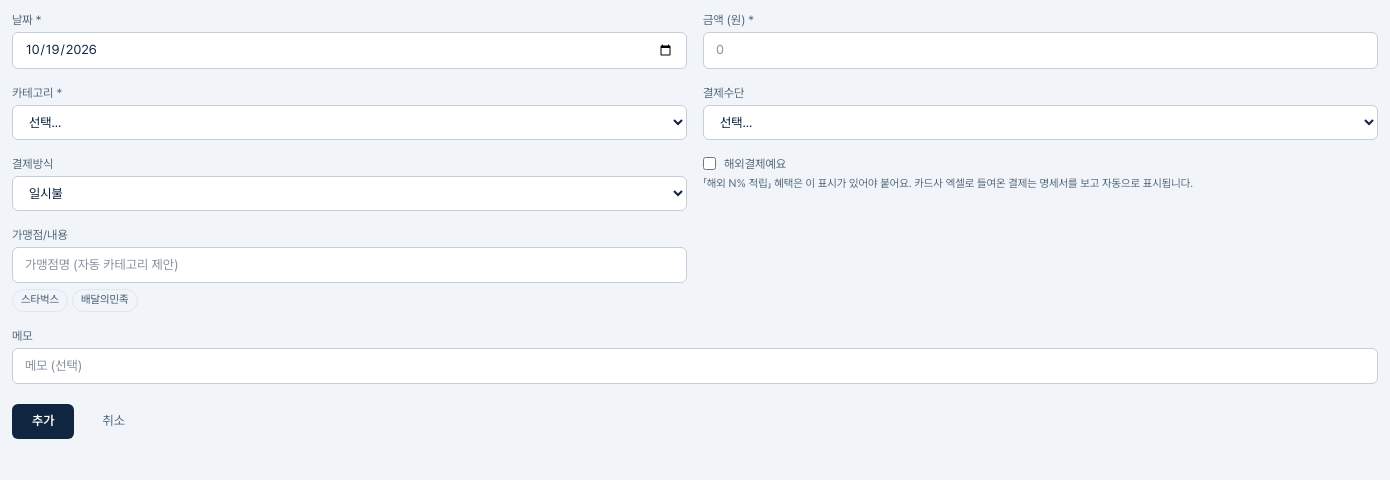
Test: TransactionForm Suggest Tests › G. 가맹점 직접 타이핑 › G-1. 가맹점을 직접 타이핑해 바꾸면 | 이전 확신도 뱃지가 사라진다
The width and height of the screenshot is (1390, 480).
Type "스타벅스" into the field labelled "가맹점/내용".
click(350, 265); type("스타벅스")  # box left=12, top=247, right=687, bottom=283
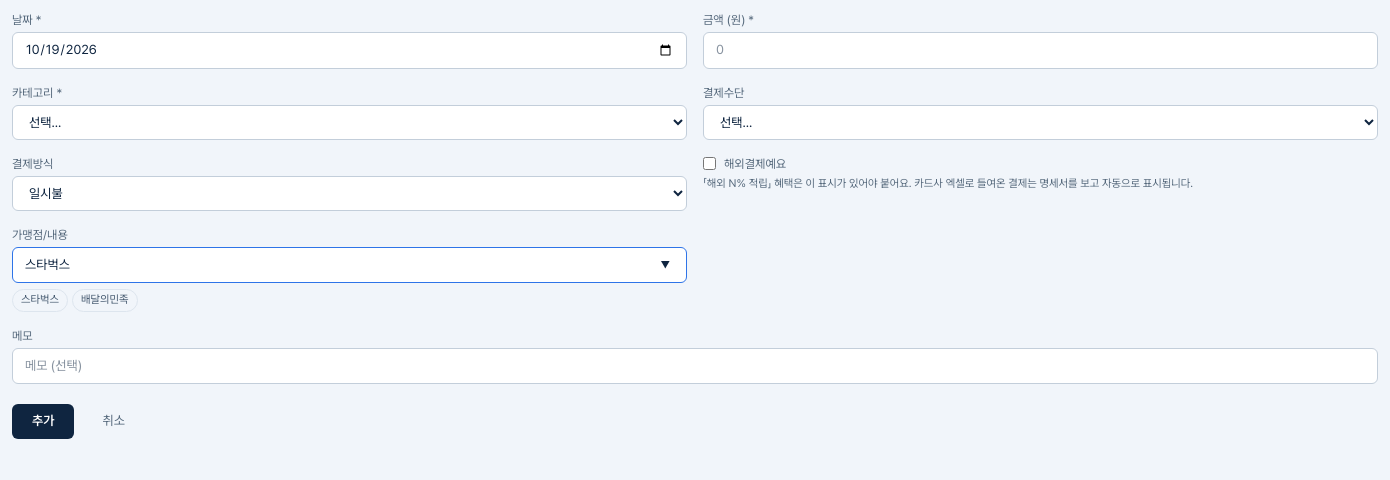
Press Tab
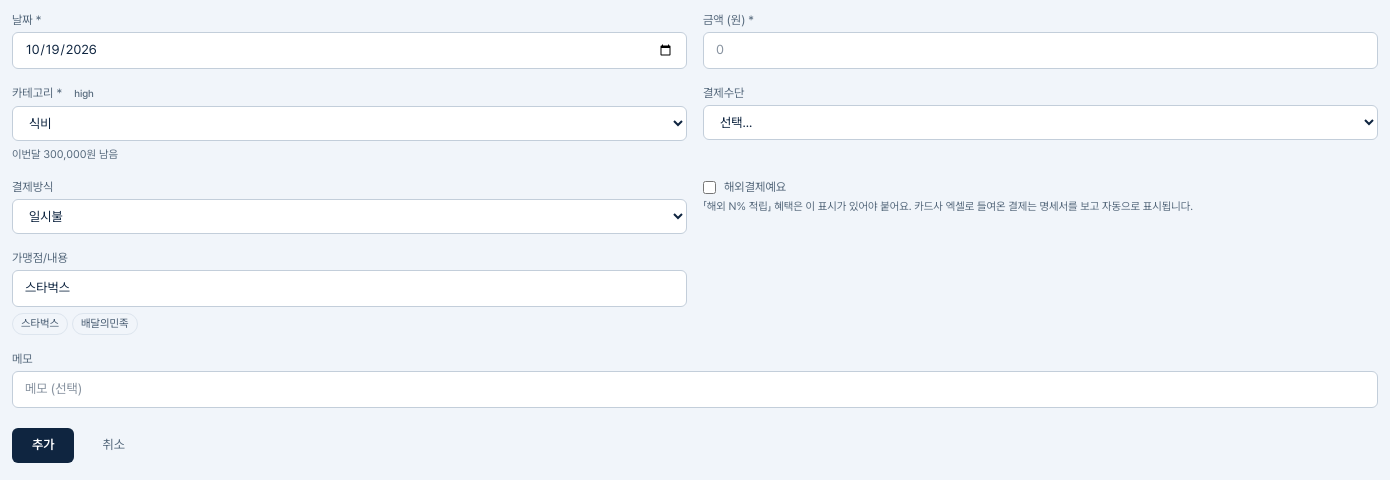
Check: the text "high" is shown, box left=74, top=87, right=94, bottom=99
Type "카페" into the field labelled "가맹점/내용".
click(350, 289); type("카페")  # box left=12, top=270, right=687, bottom=307
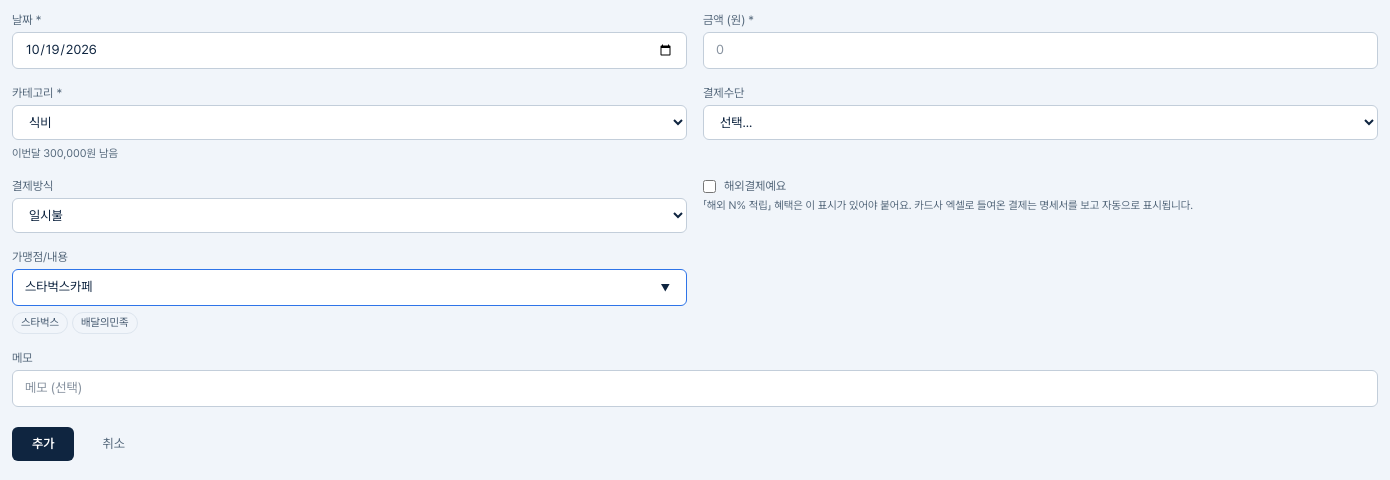
Check: the text "high" is gone
